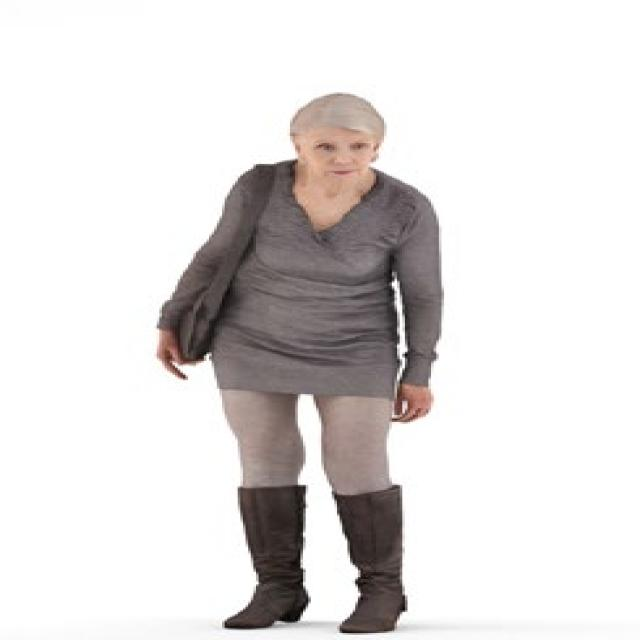standing: (154, 86, 459, 634)
